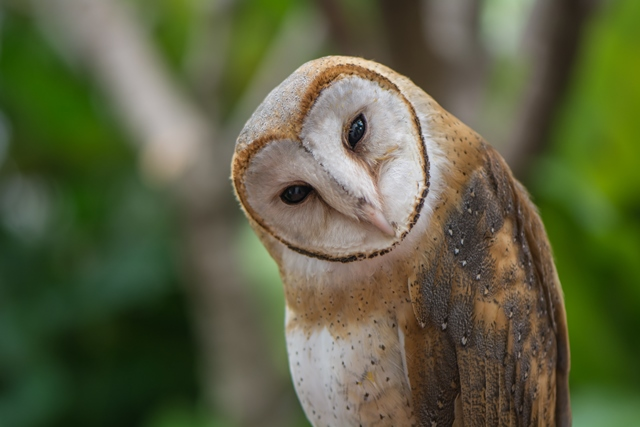bird: (195, 35, 586, 427)
